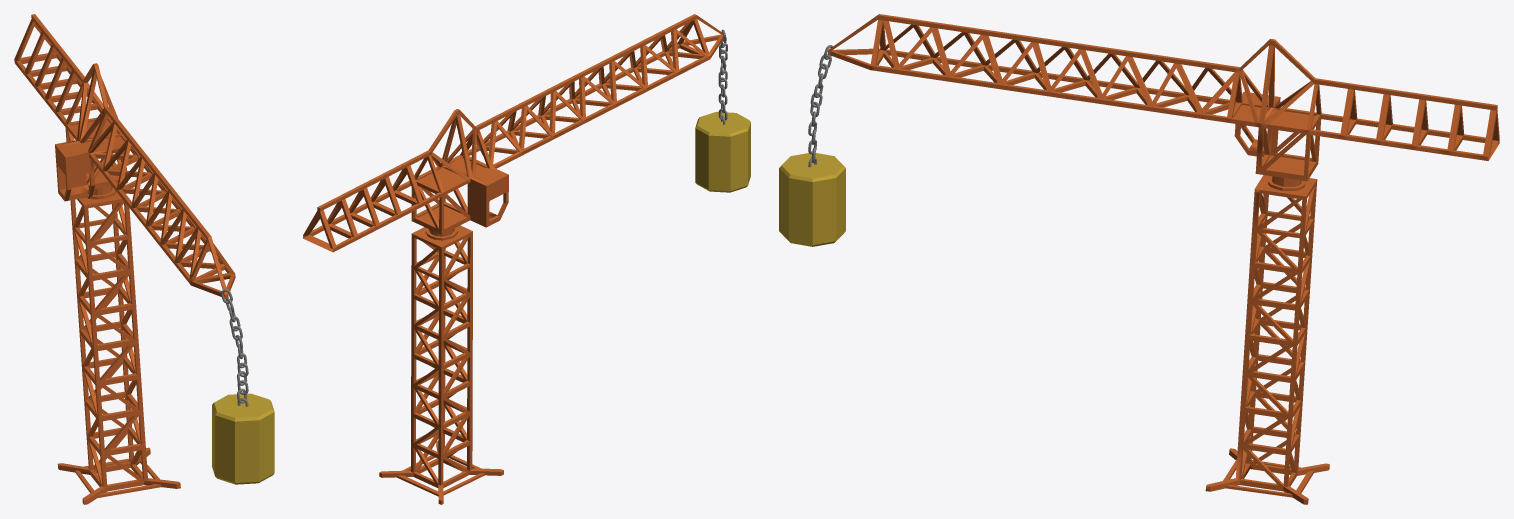
File: grue.fbx
The picture shows the model from 3 angles, left to right: view 1: azimuth 30°, elevation 25°; view 2: azimuth 150°, elevation 25°; view 3: azimuth 270°, elevation 25°; orthographic projection. The views are drawn at different scales.
Visible parts, largest first — view 1: grue; view 2: grue; view 3: grue.
Boxes of the visible parts, <box> form: grue: <box>14,14,274,504</box>; grue: <box>303,14,750,504</box>; grue: <box>779,14,1499,504</box>.
Bounding box in the file's own units: 204 × 469 × 706.
